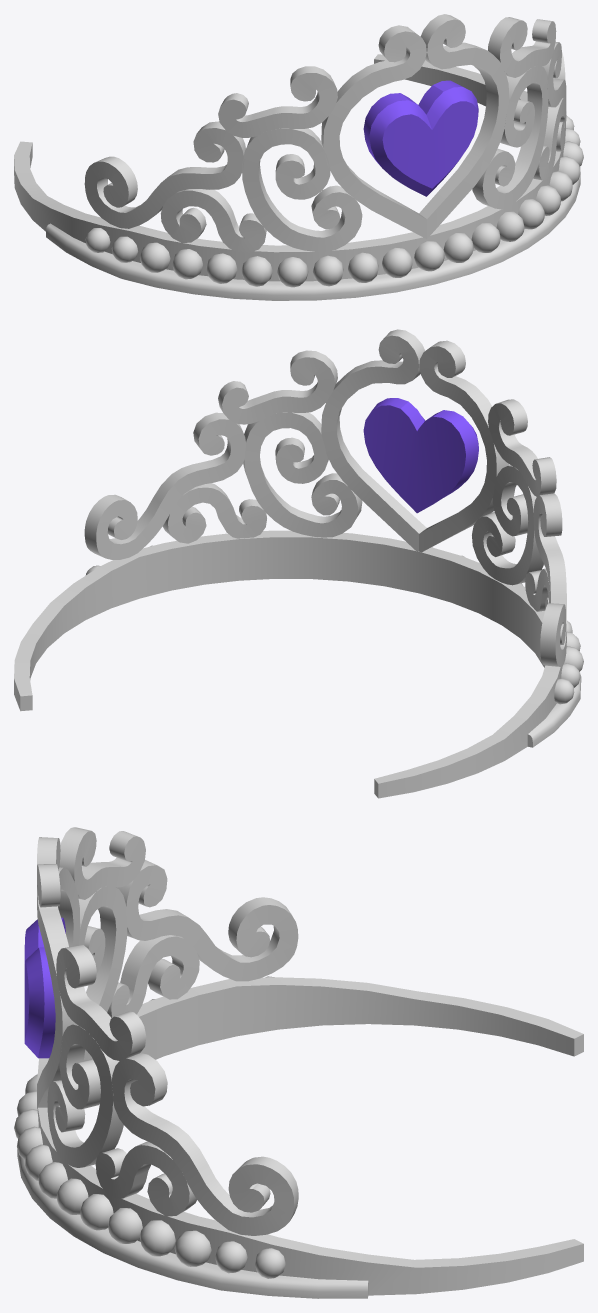
The model's file is Cake_ThemeRoyal_B.FBX.
The picture shows the model from 3 angles, top to bottom: view 1: azimuth 30°, elevation 25°; view 2: azimuth 150°, elevation 25°; view 3: azimuth 270°, elevation 25°; orthographic projection. The views are drawn at different scales.
Parts seen in each view (by area): view 1: Cake_ThemeRoyal_B; view 2: Cake_ThemeRoyal_B; view 3: Cake_ThemeRoyal_B.
Boxes of the visible parts, x1,y1,x2,y2 form: Cake_ThemeRoyal_B: (14, 14, 583, 300); Cake_ThemeRoyal_B: (14, 329, 583, 798); Cake_ThemeRoyal_B: (14, 827, 583, 1298).
Size of the model in its own units: 109069 by 53994 by 91888.
